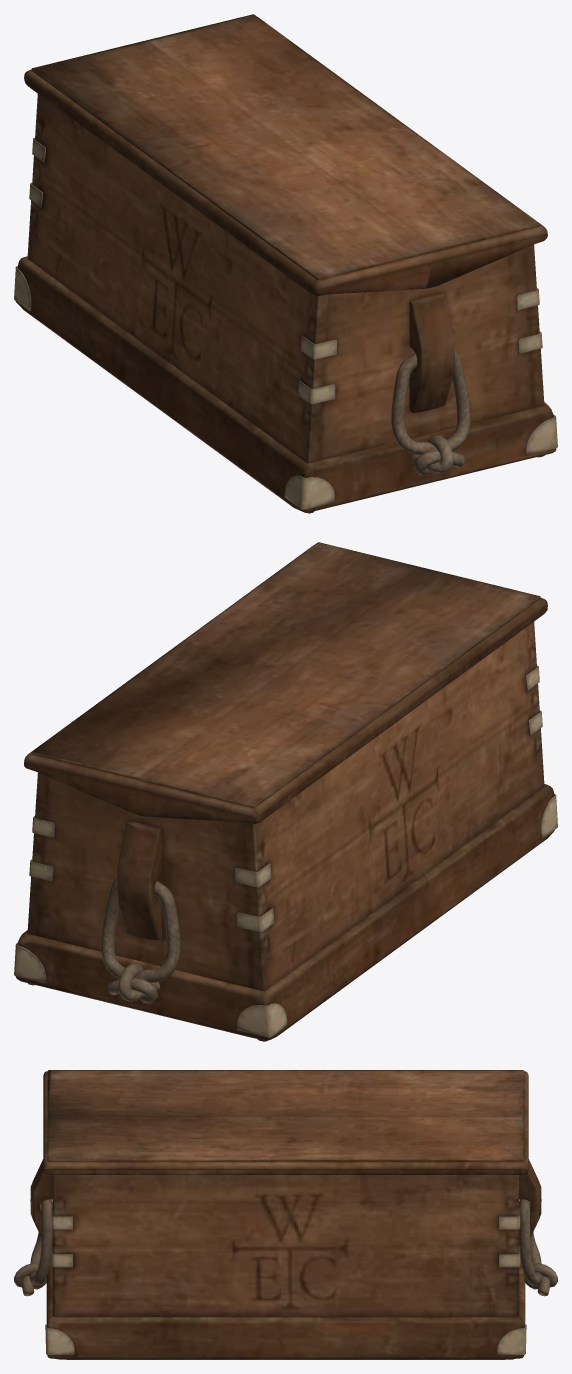
The model's file is wooden_crate_02.glb.
The picture shows the model from 3 angles, top to bottom: view 1: azimuth 30°, elevation 25°; view 2: azimuth 150°, elevation 25°; view 3: azimuth 270°, elevation 25°; orthographic projection. The views are drawn at different scales.
Parts seen in each view (by area): view 1: wooden_crate_02_crate, wooden_crate_02_lid; view 2: wooden_crate_02_crate, wooden_crate_02_lid; view 3: wooden_crate_02_crate, wooden_crate_02_lid.
Boxes of the visible parts, bbox=[...] form: wooden_crate_02_crate: bbox=[14, 94, 557, 513]; wooden_crate_02_lid: bbox=[24, 14, 547, 296]; wooden_crate_02_crate: bbox=[14, 621, 557, 1041]; wooden_crate_02_lid: bbox=[24, 542, 547, 823]; wooden_crate_02_crate: bbox=[14, 1159, 557, 1359]; wooden_crate_02_lid: bbox=[43, 1070, 528, 1174].
Size of the model in its own units: 0.5291 by 0.464 by 1.17.
1 material, 1 textured.
